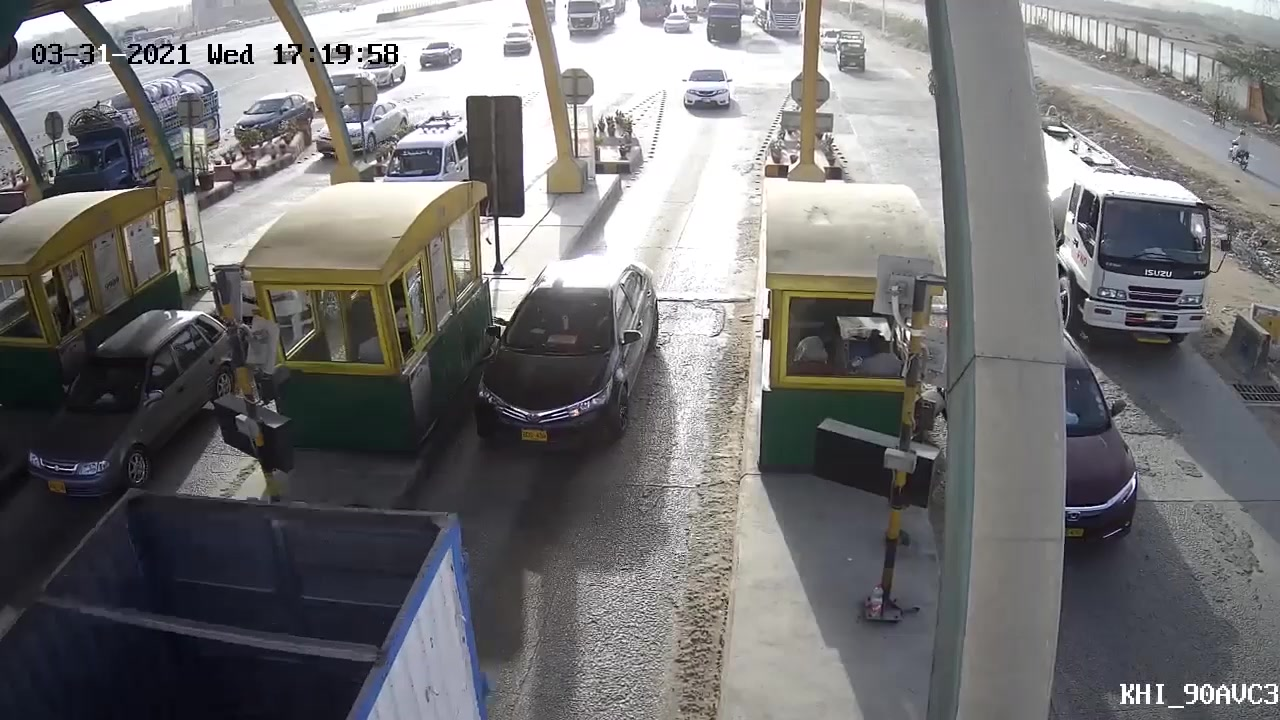F1: (456, 244, 668, 479)
